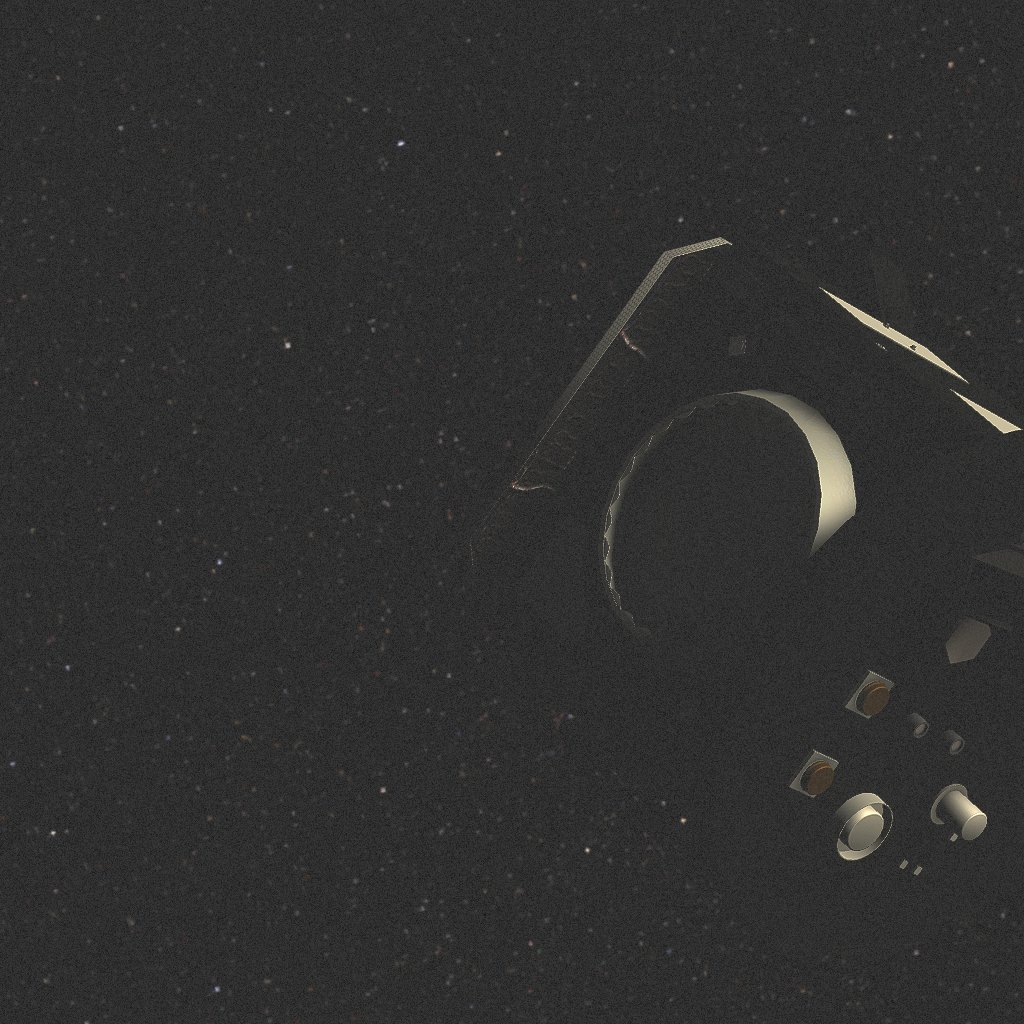proba_3_ocs: (463, 233, 1024, 956)
